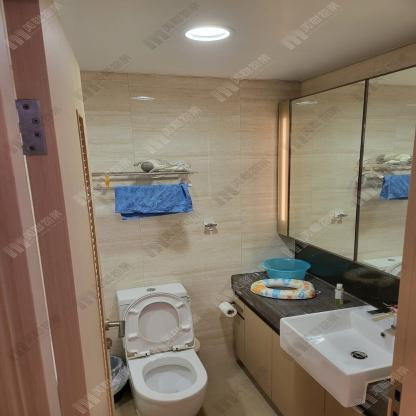Toilet: (115, 282, 211, 416)
Toilet Sink: (279, 306, 396, 407)
